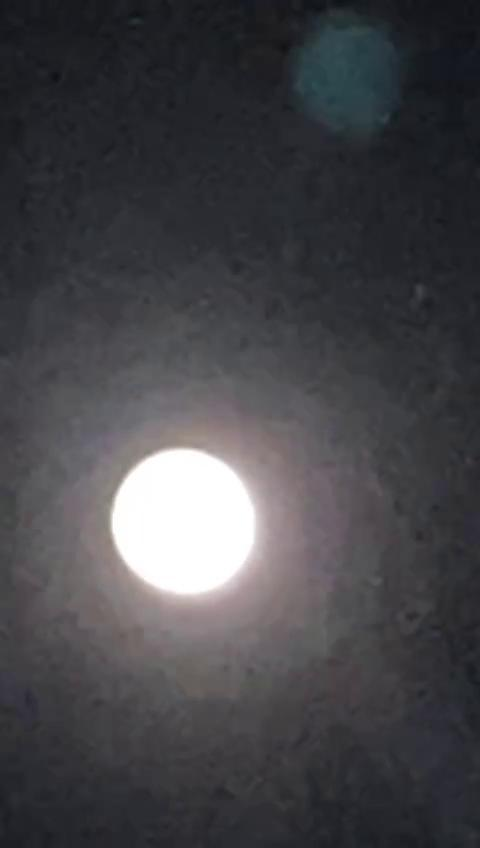moon: (118, 430, 286, 622)
